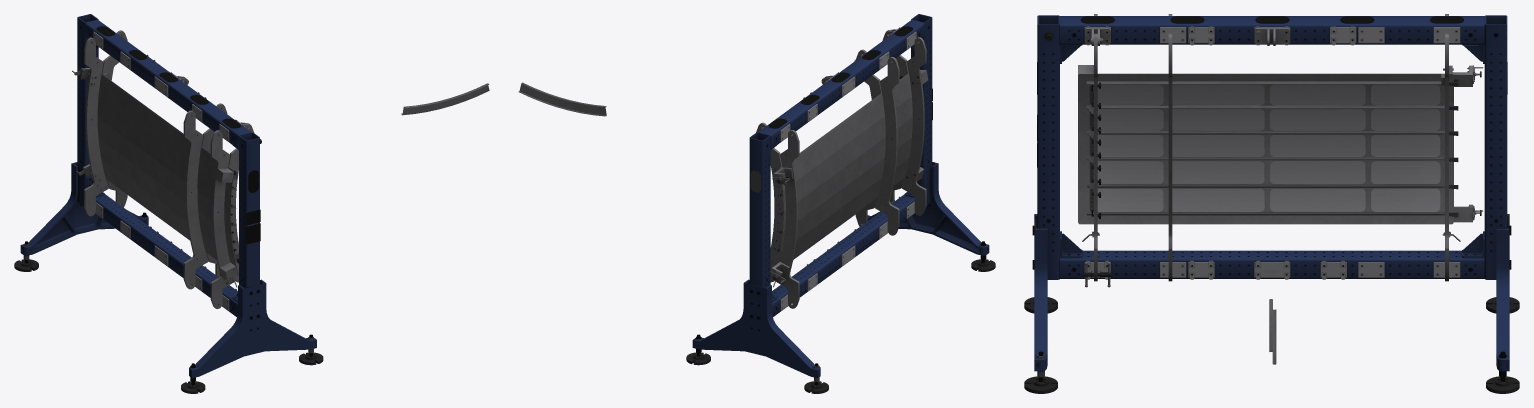
File: SborkaUzla.FBX
The picture shows the model from 3 angles, left to right: view 1: azimuth 30°, elevation 25°; view 2: azimuth 150°, elevation 25°; view 3: azimuth 270°, elevation 25°; orthographic projection. The views are drawn at different scales.
Parts seen in each view (by area): view 1: Base, Sborka00, BaseInt11, BaseInt15, BaseInt13, Sborka03, BaseInt14, BaseInt10; view 2: Base, Sborka00, BaseInt11, BaseInt15, BaseInt13, BaseInt10, Sborka03, BaseInt12; view 3: Sborka00, Base, SborkaPart105, SborkaPart100, SborkaPart104, SborkaPart103, SborkaPart102, SborkaPart101, BaseInt12, BaseInt10, BaseInt14, BaseInt11 (+3 smaller).
Part boxes in pixels (x1,y1,x2,y2): Base: (14, 14, 323, 393); Sborka00: (97, 74, 238, 275); BaseInt11: (72, 37, 108, 216); BaseInt15: (210, 130, 237, 308); BaseInt13: (183, 110, 208, 289); Sborka03: (401, 83, 489, 115); BaseInt14: (228, 123, 254, 282); BaseInt10: (101, 30, 127, 207); Base: (686, 14, 995, 393); Sborka00: (777, 73, 912, 263); BaseInt11: (770, 130, 799, 308); BaseInt15: (901, 37, 928, 215); BaseInt13: (874, 57, 899, 235); BaseInt10: (756, 122, 783, 282); Sborka03: (518, 82, 606, 116); BaseInt12: (855, 49, 881, 226); Sborka00: (1078, 73, 1453, 224); Base: (1024, 15, 1519, 393); SborkaPart105: (1086, 212, 1444, 215); SborkaPart100: (1086, 81, 1441, 84); SborkaPart104: (1086, 184, 1444, 187); SborkaPart103: (1086, 157, 1444, 160); SborkaPart102: (1086, 131, 1444, 134); SborkaPart101: (1086, 105, 1444, 108); BaseInt12: (1168, 33, 1172, 281); BaseInt10: (1441, 33, 1448, 281); BaseInt14: (1094, 33, 1097, 281); BaseInt11: (1442, 14, 1483, 241).
Size of the model in its own units: 3311 by 2625 by 1912.
